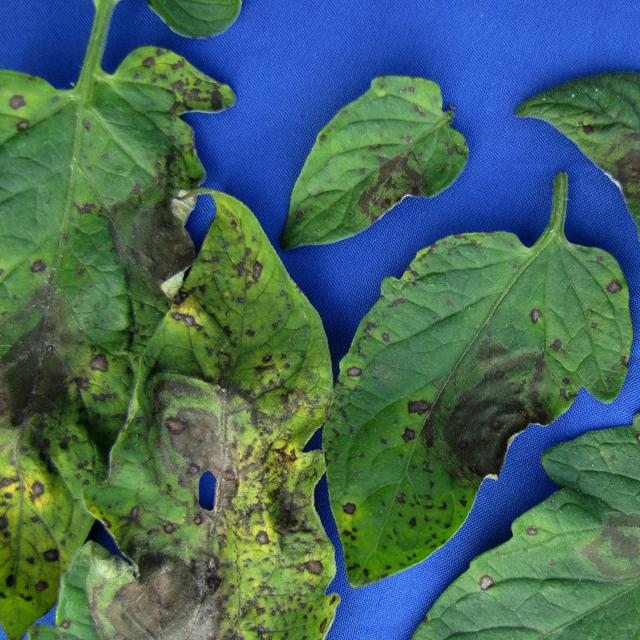Tomato leaf late blight: (0, 25, 264, 640), (27, 184, 347, 640), (315, 187, 640, 614), (504, 30, 640, 509), (353, 429, 640, 640)
